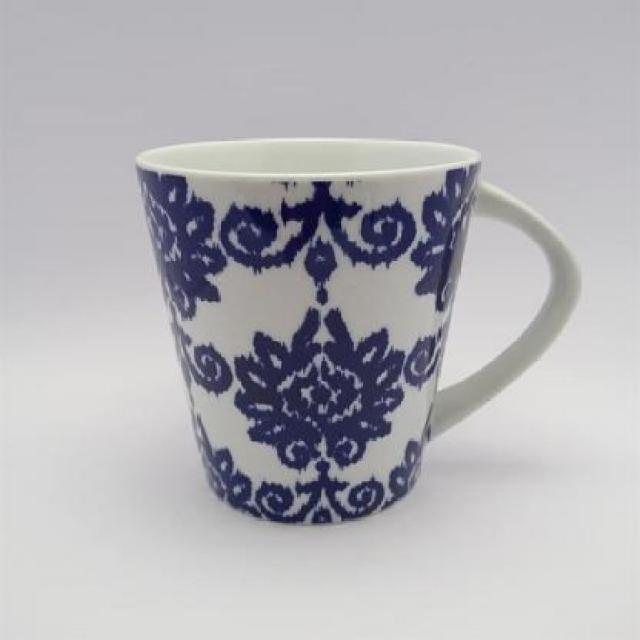taza: (135, 135, 583, 524)
